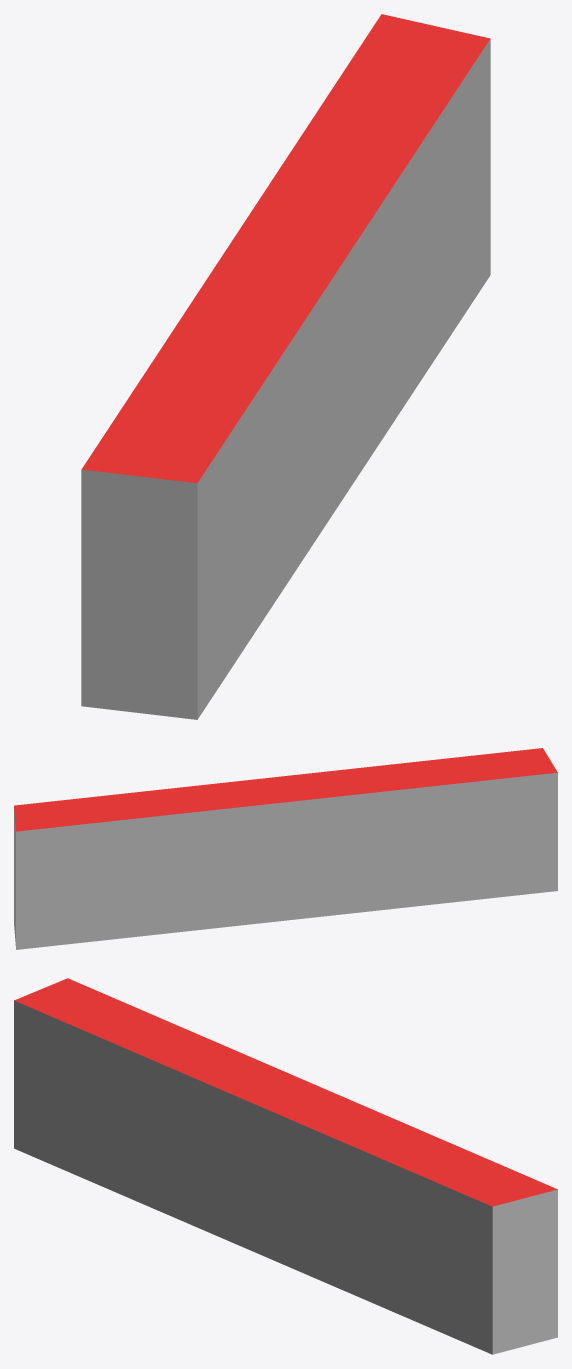
3 views of the same model, one above another, from view 1: azimuth 30°, elevation 25°; view 2: azimuth 150°, elevation 25°; view 3: azimuth 270°, elevation 25° (orthographic). The views are drawn at different scales.
Bounding box in the file's own units: 43.03 × 43.29 × 13.
